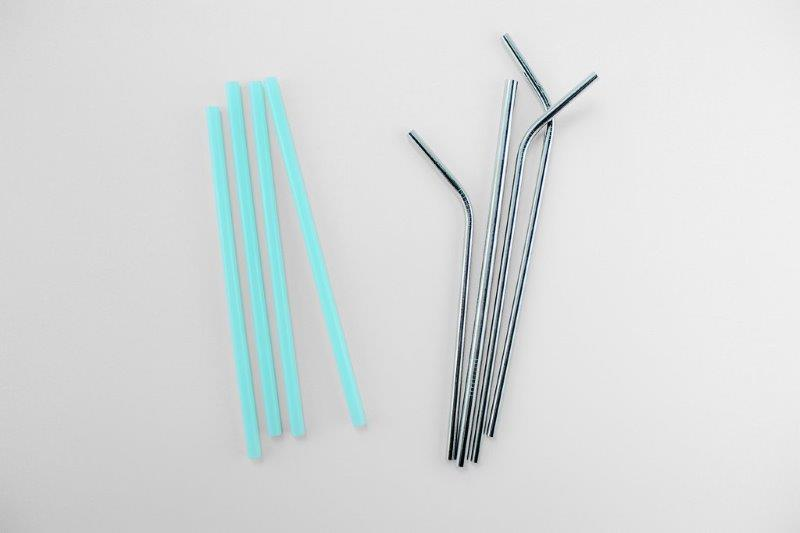plastic: (402, 32, 606, 471), (204, 74, 368, 463)
